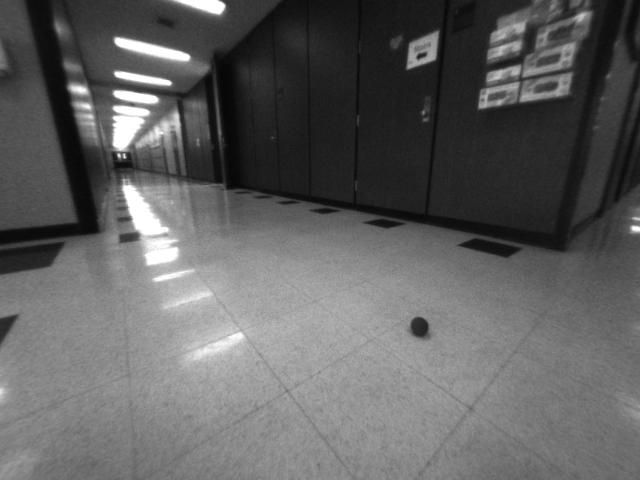dogtoy: (402, 304, 438, 342)
